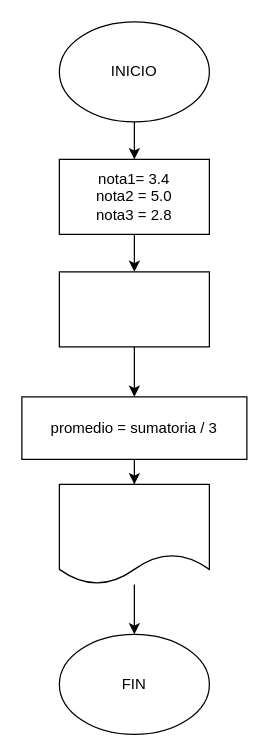
Image size: 269x756. Some labels were removed from this diagram. The centre of each missing label's shape, as x and y in pixels:
"El promedio del estudiante es de: ",promedio: pixel 133 533
sumatoria = nota1+nota2+nota3: pixel 133 309
